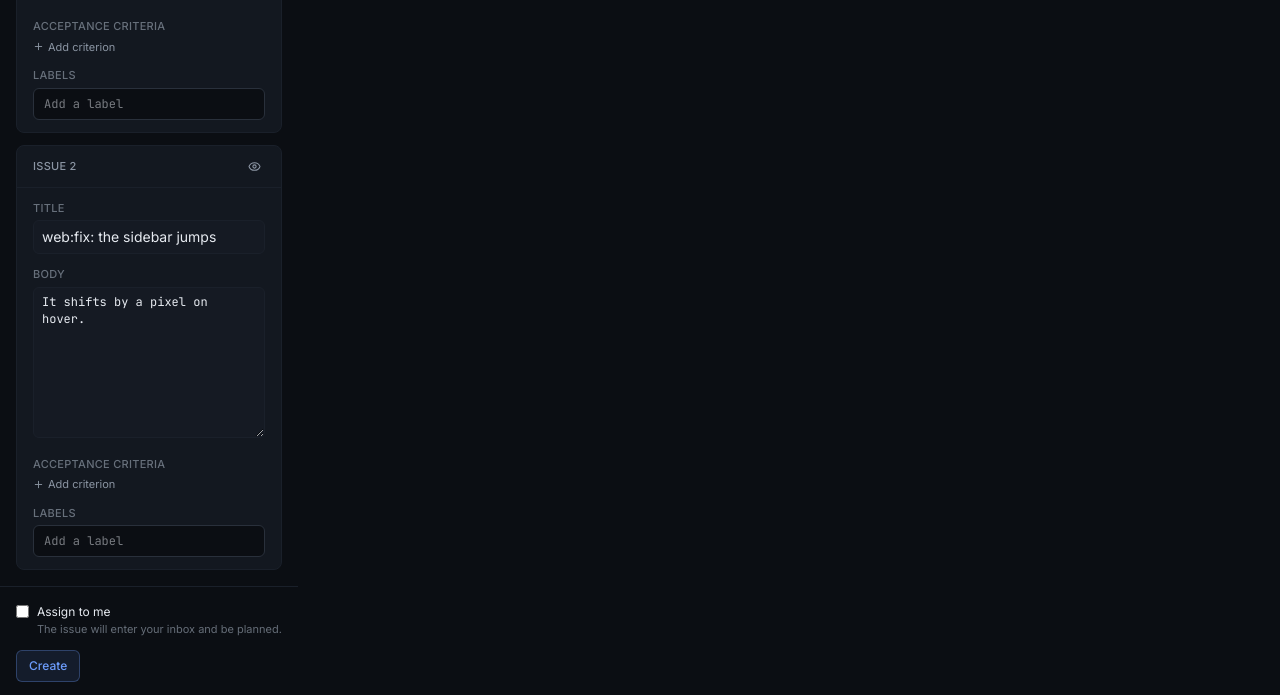
Scenario: DraftPane toasts › raises one toast per created issue
(page scrolled)
Click the button "Create": point(48, 666) 16,650 -> 80,682
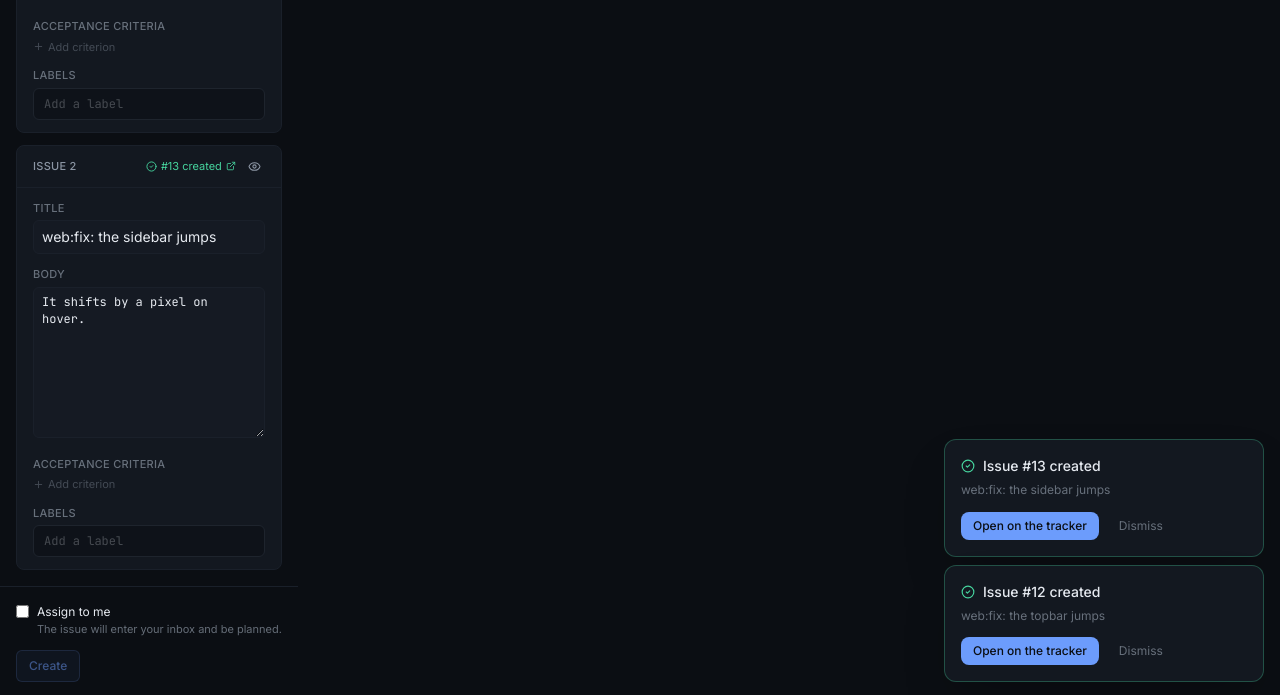
Expected: the text "Issue #12 created" is shown, 983,582 -> 1100,602
Expected: the text "Issue #13 created" is shown, 983,456 -> 1101,476
